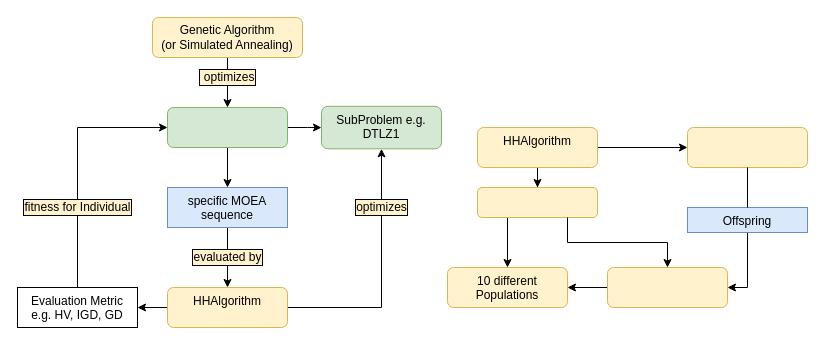
Image size: 825x345. Some labels were removed from this diagram. The shapes that lost their labels are listed below. From the top down, each one's centre as x and y in pixels, then its label:
At [227,127]: "HHProblem".
At [747,147]: "current running MOEA".
At [537,202]: "10 different MOEAs".
At [667,287]: "10 Environmental Selections".
